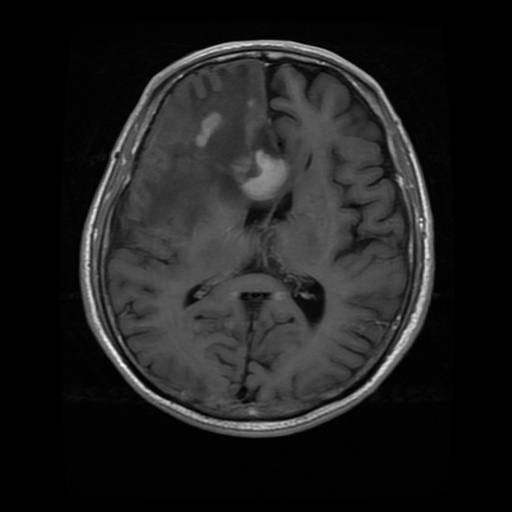glioma: (135, 64, 297, 240)
